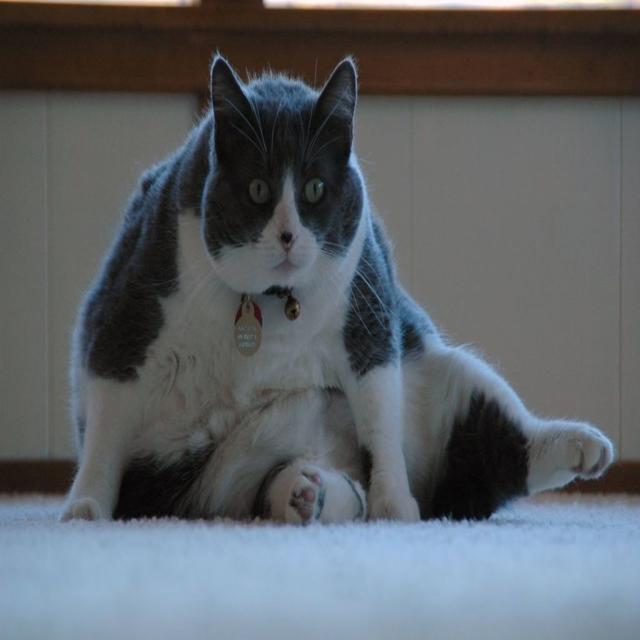Cat: (63, 51, 616, 522)
